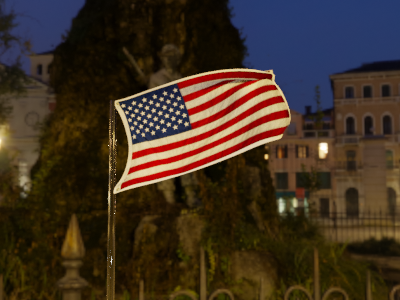America flag: (113, 66, 291, 196)
